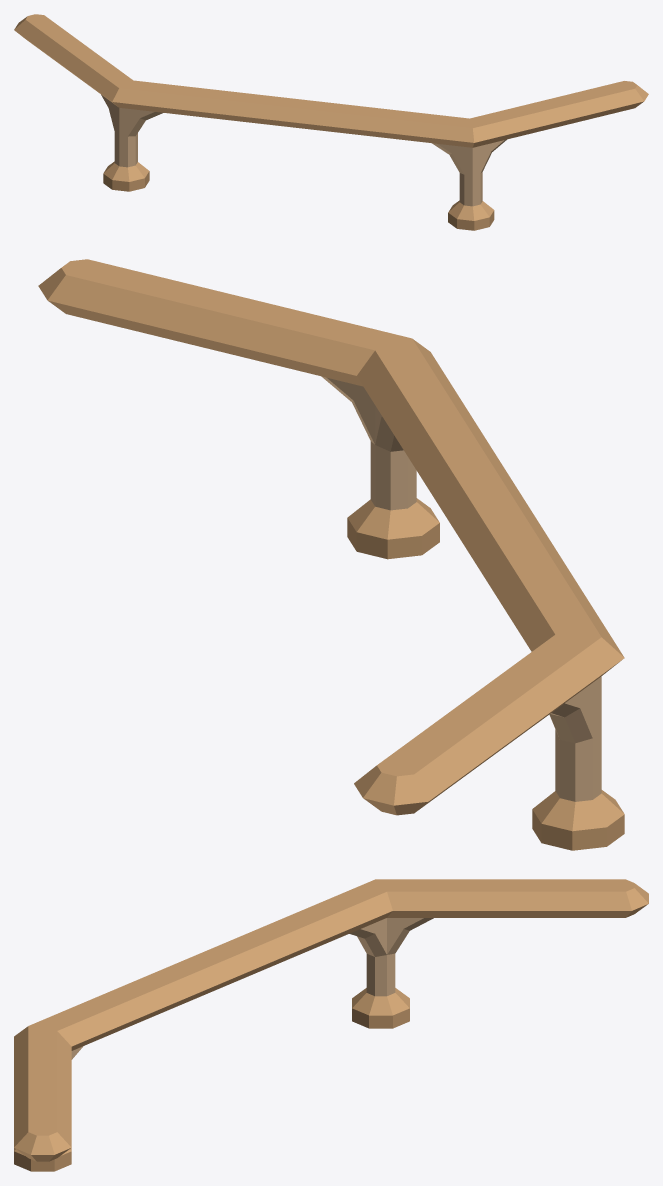
Rendered from Balcony_Railing_Curved_Large.fbx.
3 renders of one model, top to bottom at view 1: azimuth 30°, elevation 25°; view 2: azimuth 150°, elevation 25°; view 3: azimuth 270°, elevation 25°, orthographic. The views are drawn at different scales.
Parts seen in each view (by area): view 1: Sandstone_5.Sandstone_5.Sandstone_5.Sandstone_5.Sandstone_5., Sandstone_4.Sandstone_4.Sandstone_4.Sandstone_4.Sandstone_4.; view 2: Sandstone_5.Sandstone_5.Sandstone_5.Sandstone_5.Sandstone_5., Sandstone_4.Sandstone_4.Sandstone_4.Sandstone_4.Sandstone_4.; view 3: Sandstone_5.Sandstone_5.Sandstone_5.Sandstone_5.Sandstone_5., Sandstone_4.Sandstone_4.Sandstone_4.Sandstone_4.Sandstone_4..
Boxes of the visible parts, x1,y1,x2,y2 form: Sandstone_5.Sandstone_5.Sandstone_5.Sandstone_5.Sandstone_5.: (14, 14, 648, 230); Sandstone_4.Sandstone_4.Sandstone_4.Sandstone_4.Sandstone_4.: (101, 94, 506, 206); Sandstone_5.Sandstone_5.Sandstone_5.Sandstone_5.Sandstone_5.: (38, 259, 624, 850); Sandstone_4.Sandstone_4.Sandstone_4.Sandstone_4.Sandstone_4.: (321, 376, 601, 801); Sandstone_5.Sandstone_5.Sandstone_5.Sandstone_5.Sandstone_5.: (14, 879, 648, 1171); Sandstone_4.Sandstone_4.Sandstone_4.Sandstone_4.Sandstone_4.: (71, 918, 433, 1059).
Bounding box in the file's own units: 2.2 × 0.5 × 2.2.
